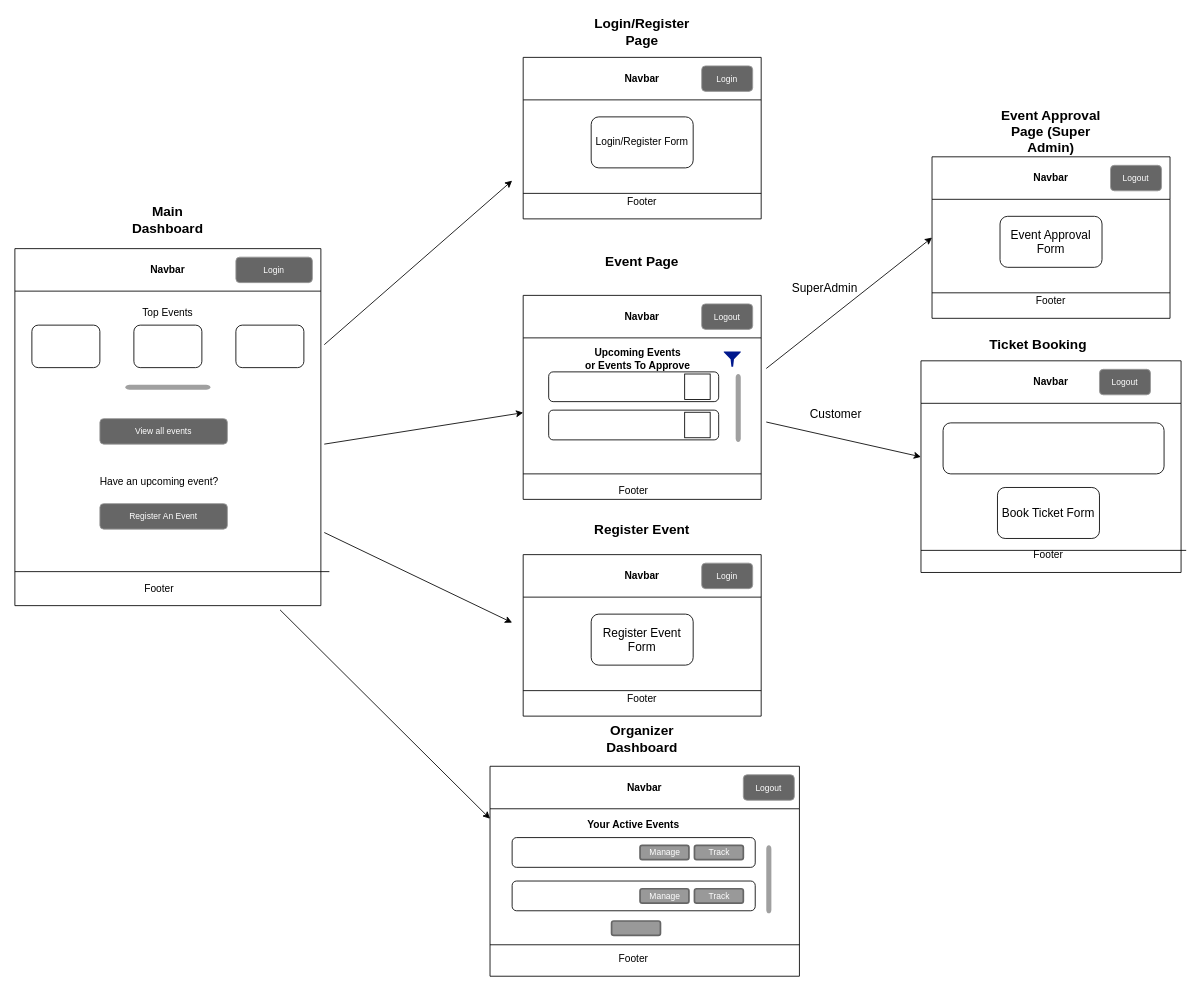
The diagram is 1202 pixels wide and 991 high, and some of its shapes have lost their labels. Here are the shapes that lost their labels. From the top down, the centre of each, then its label:
At [1053,448]: "Event Details".
At [635,928]: "New Event".
